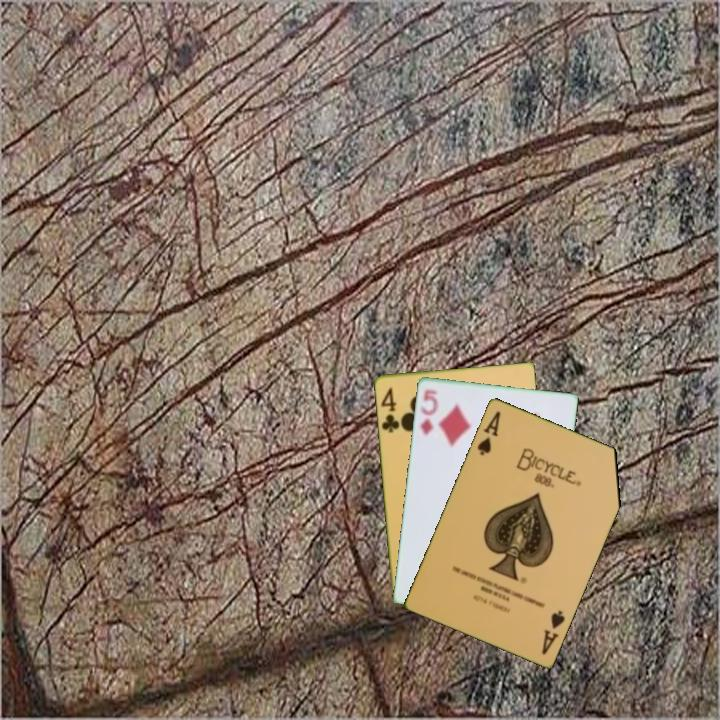4c: (377, 384, 402, 435)
5d: (417, 386, 441, 438)
As: (538, 606, 568, 657), (474, 407, 503, 458)
